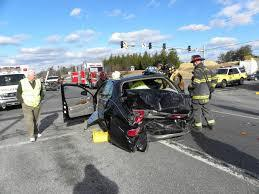Rear-windscreen-Damage: (119, 74, 175, 88)
rear-bumper-dent: (128, 118, 180, 141)
